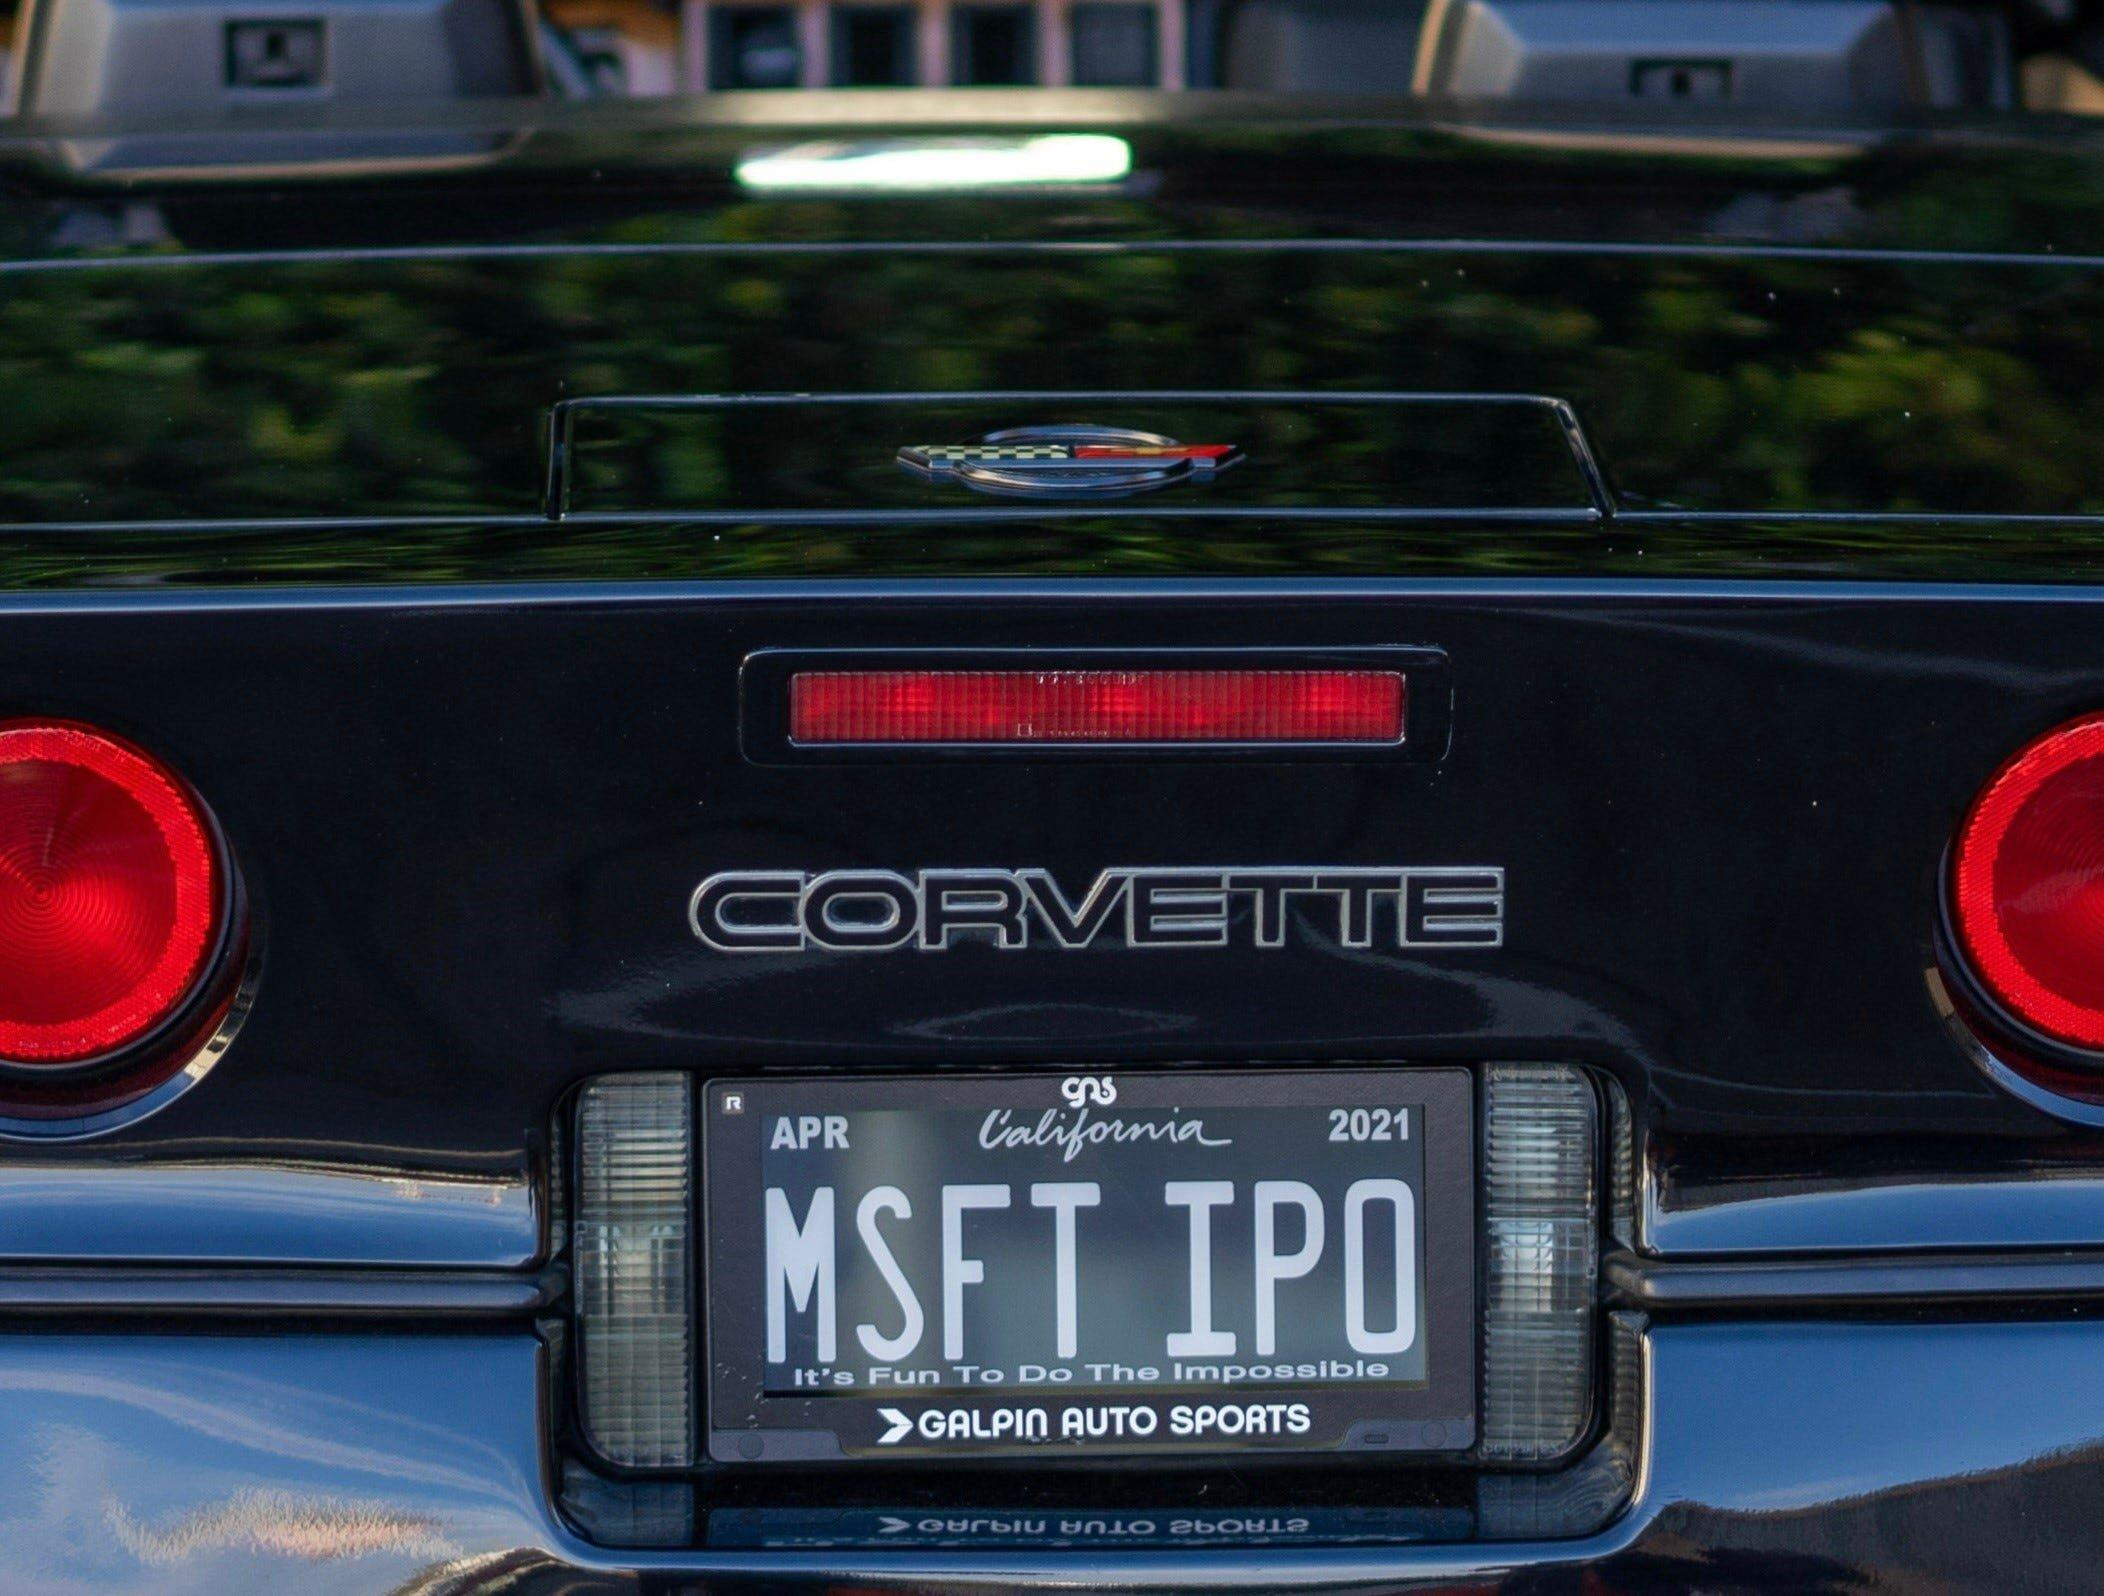Liscence Plate: (681, 1069, 1479, 1452)
